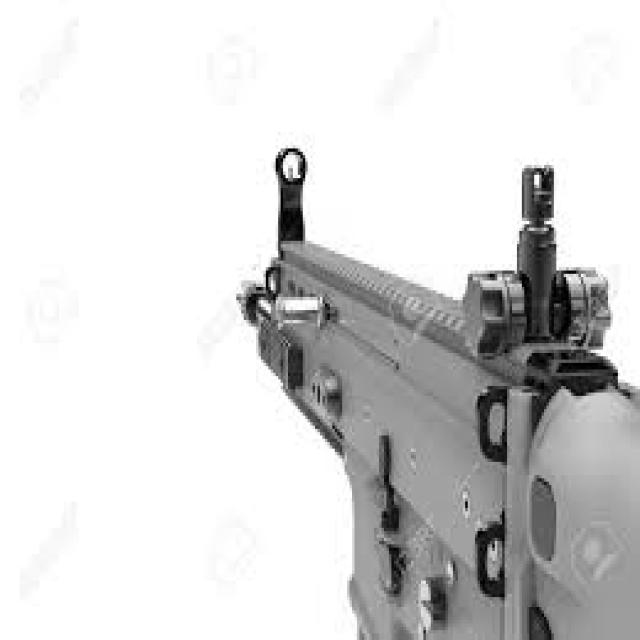rifle: (242, 136, 640, 640)
